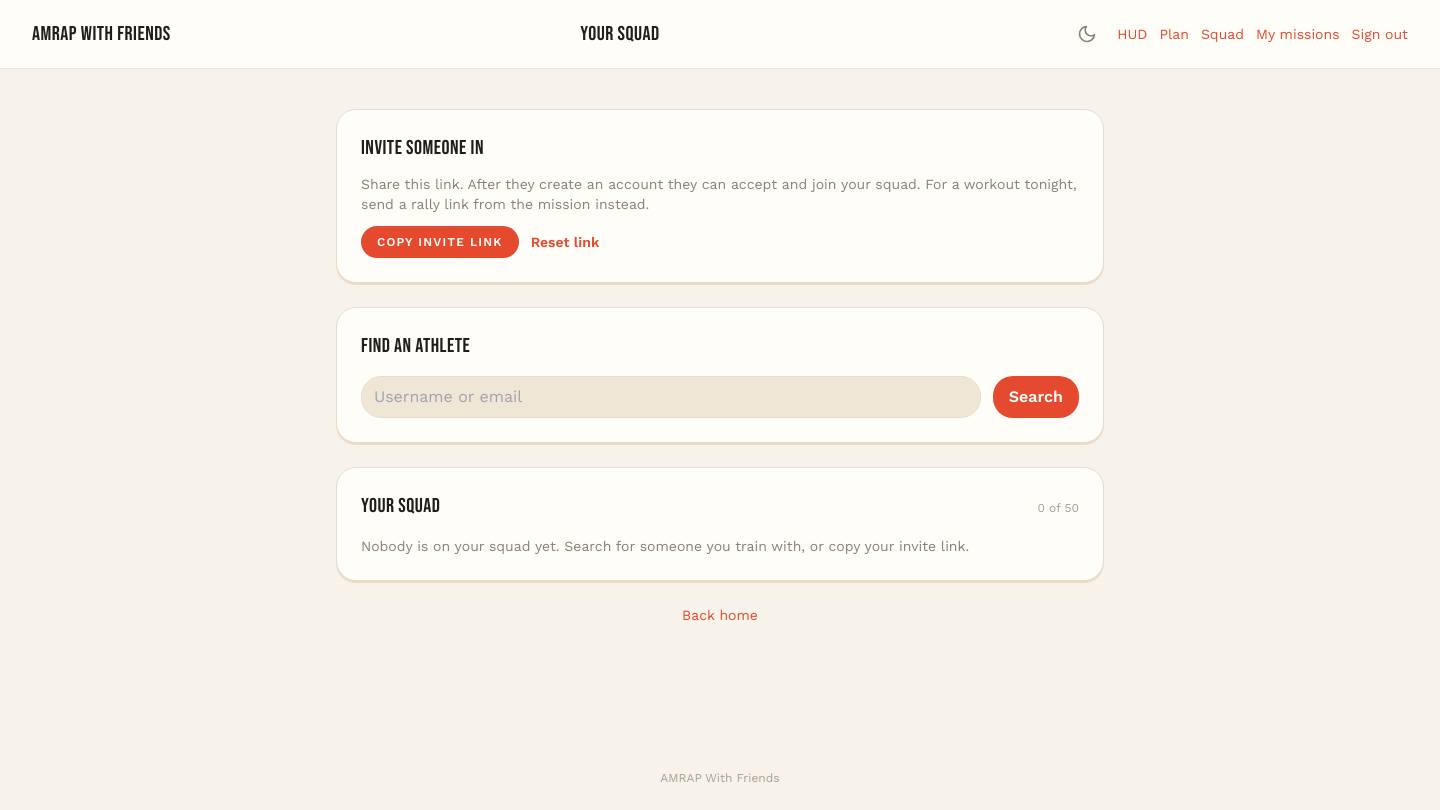
Test: SquadPage › lets the athlete back out of resetting the link
Click the button "Reset link" at {"x": 565, "y": 242}, box [531, 232, 599, 252]
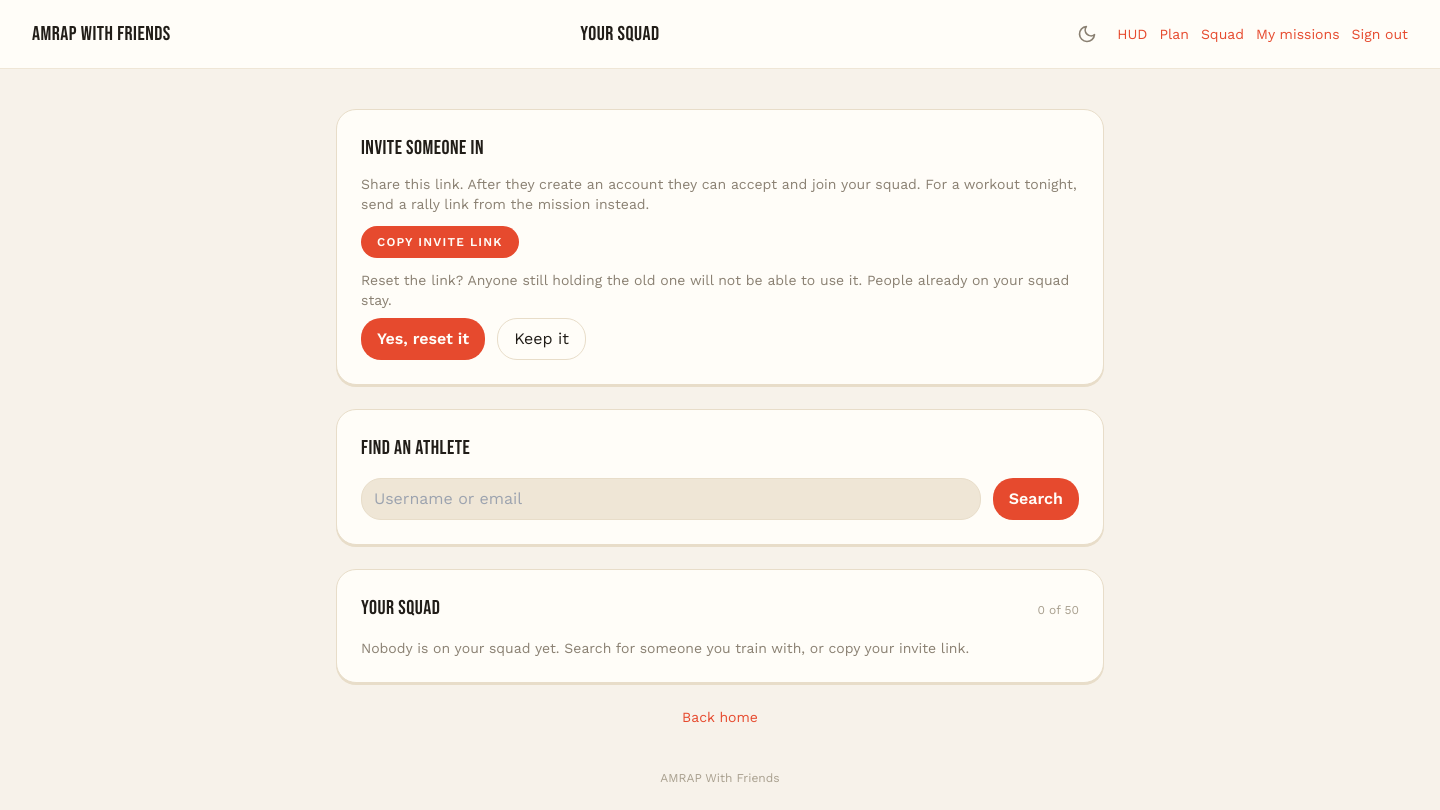
Click the button "Keep it" at {"x": 542, "y": 339}, box [497, 318, 586, 360]
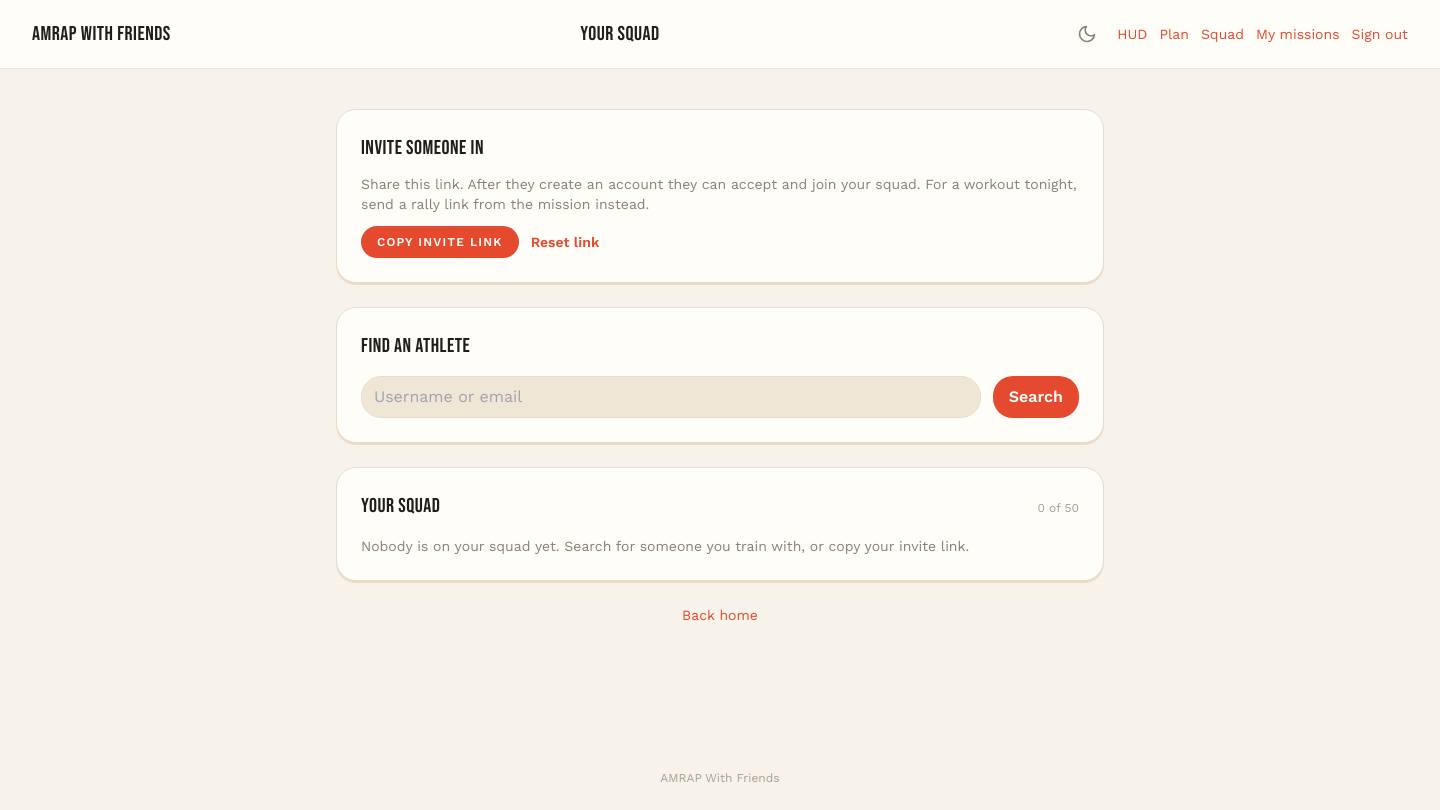
expect the button "Reset link" is shown: met, box [531, 232, 599, 252]
